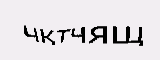Т: (54, 26, 70, 44)
Ч: (18, 22, 40, 42), (68, 25, 88, 44)
Щ: (111, 25, 148, 46)
Я: (88, 22, 108, 46)
Қ: (39, 25, 58, 47)
